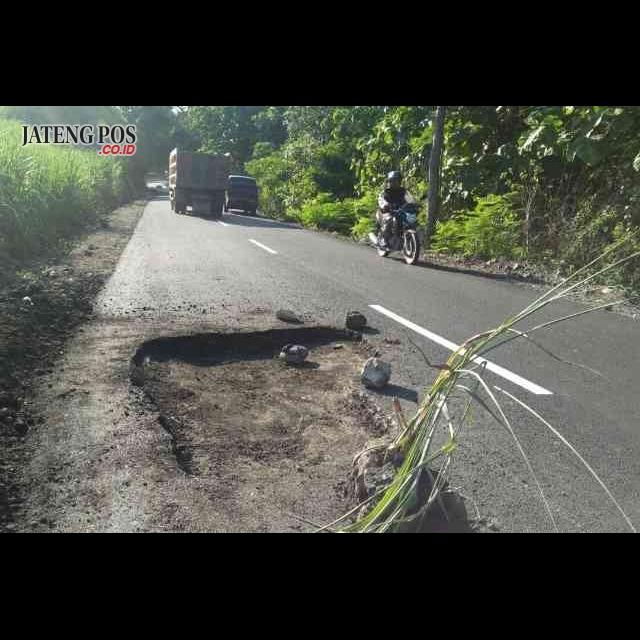lubang_kecil: (107, 310, 389, 486)
